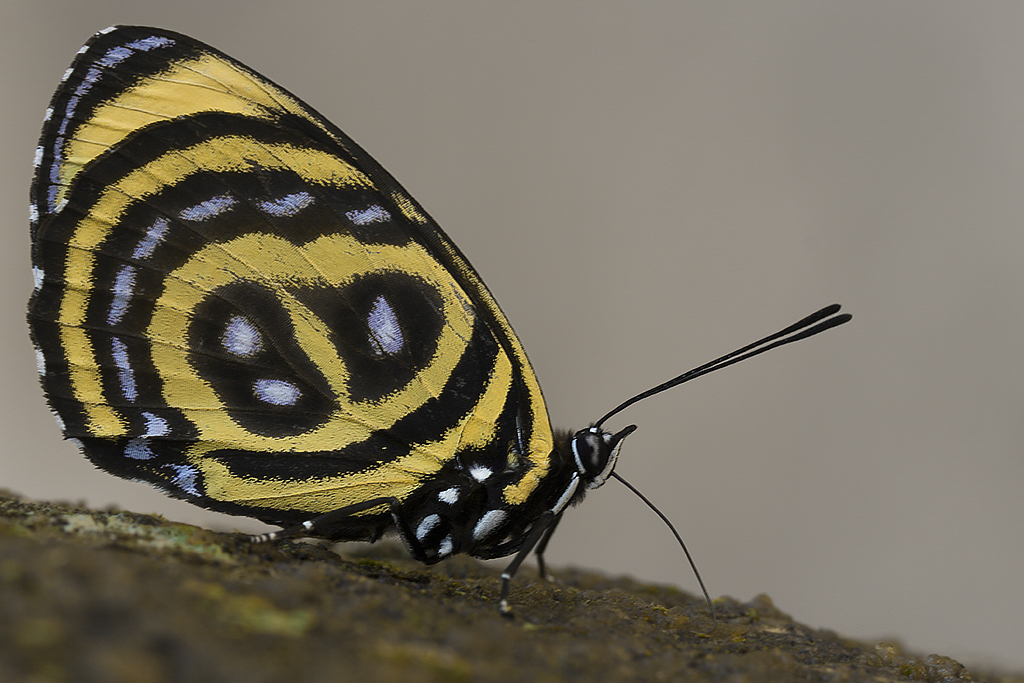Butterfly: (45, 19, 631, 628)
